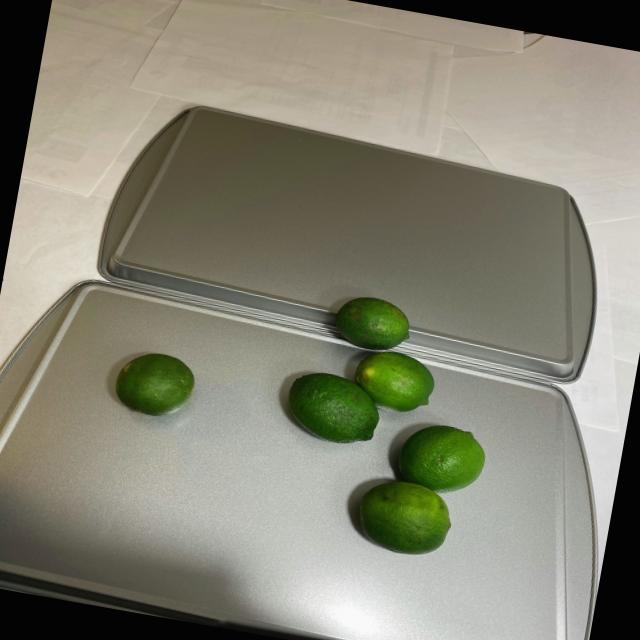lemon: (251, 278, 510, 572), (106, 344, 199, 426)
